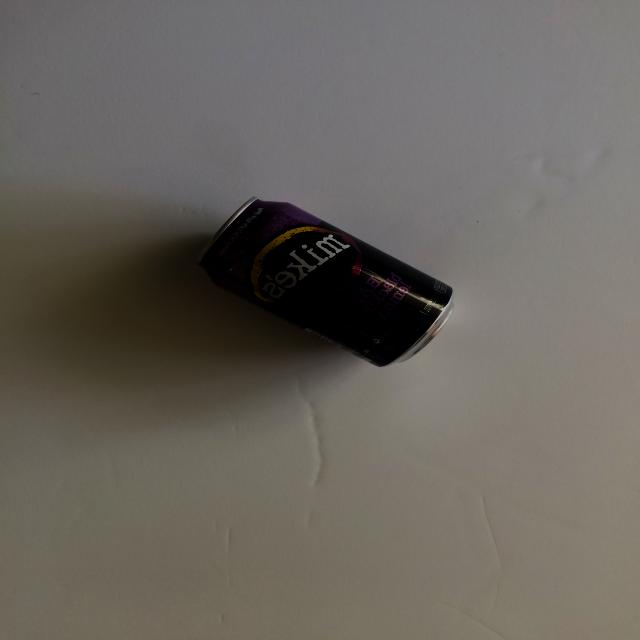Metal: (168, 196, 466, 368)
